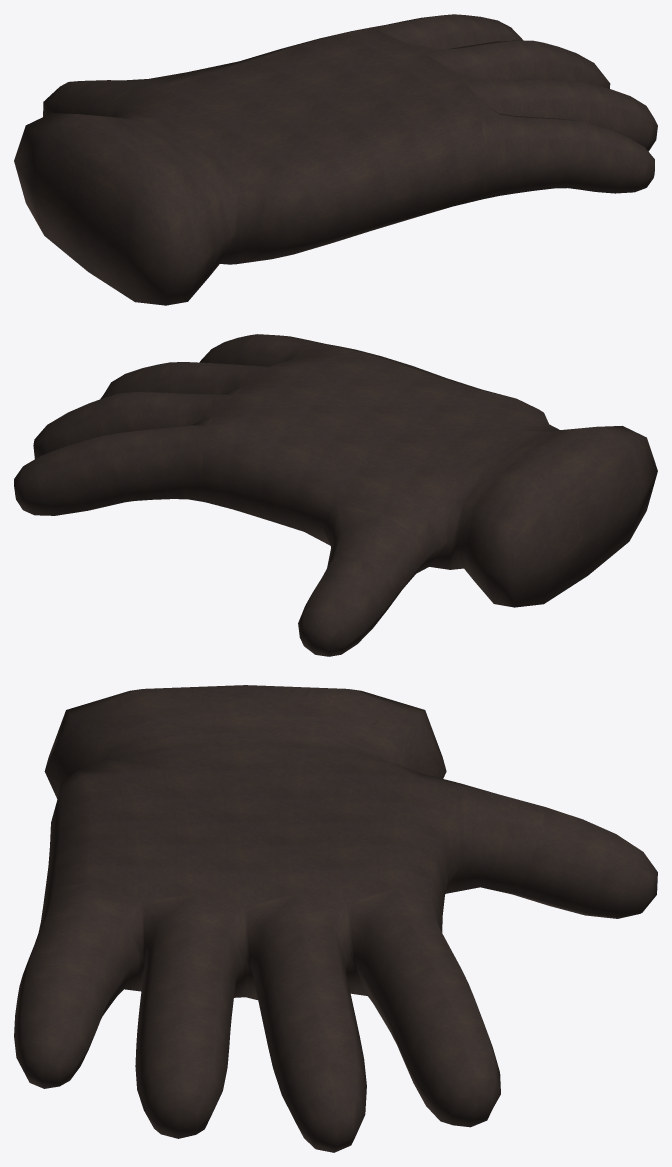
The model's file is hand-right.glb.
3 views of the same model, one above another, from view 1: azimuth 30°, elevation 25°; view 2: azimuth 150°, elevation 25°; view 3: azimuth 270°, elevation 25° (orthographic). The views are drawn at different scales.
Visible parts, largest first — view 1: Hand; view 2: Hand; view 3: Hand.
Part boxes in pixels (left/top/right/bottom): Hand: left=14, top=14, right=657, bottom=305; Hand: left=14, top=334, right=657, bottom=656; Hand: left=14, top=685, right=657, bottom=1152.
Bounding box in the file's own units: 0.273 × 0.0624 × 0.2112.
Materials: 1 (1 with a texture image).
